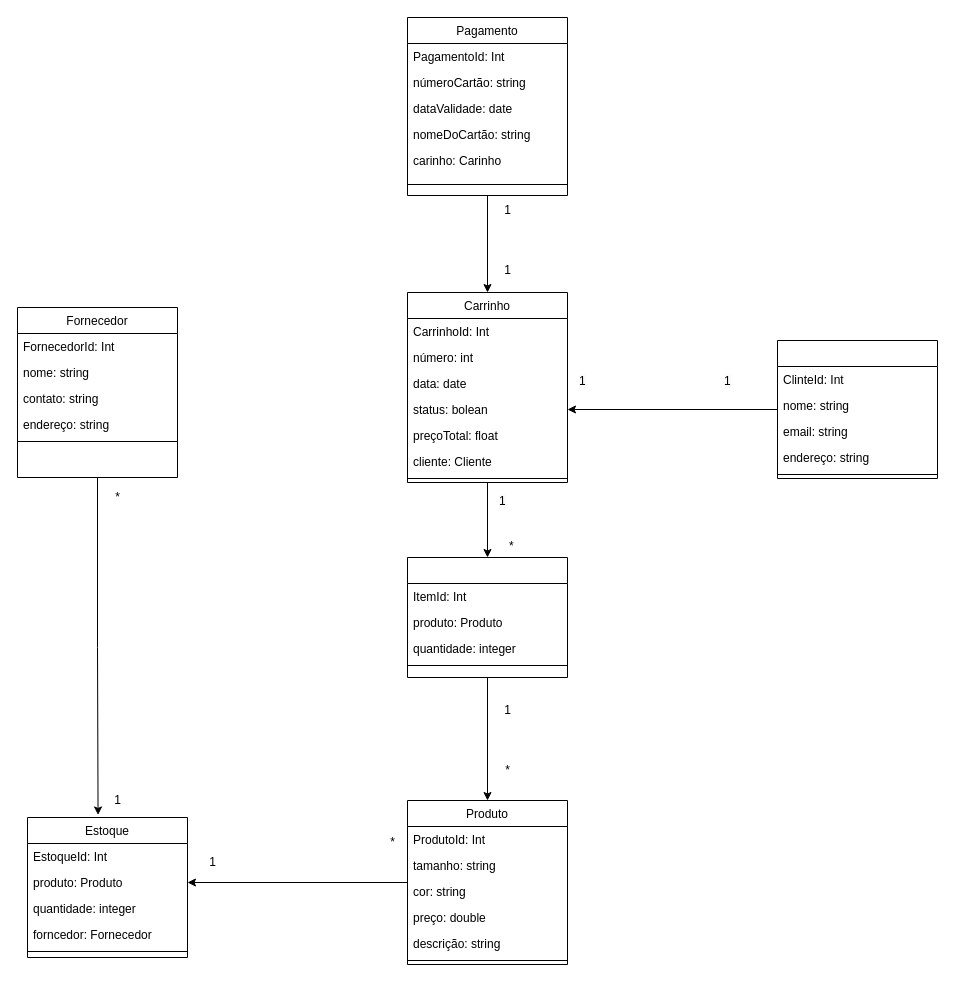
Some shapes in this 955 by 982 pixel diagram are drawn without their labels. The box of each missing label's shape, as (x1, y1, x2, y2) in pixels:
Cliente: (776, 340, 938, 478)
ItemCarrinho: (406, 556, 568, 678)
